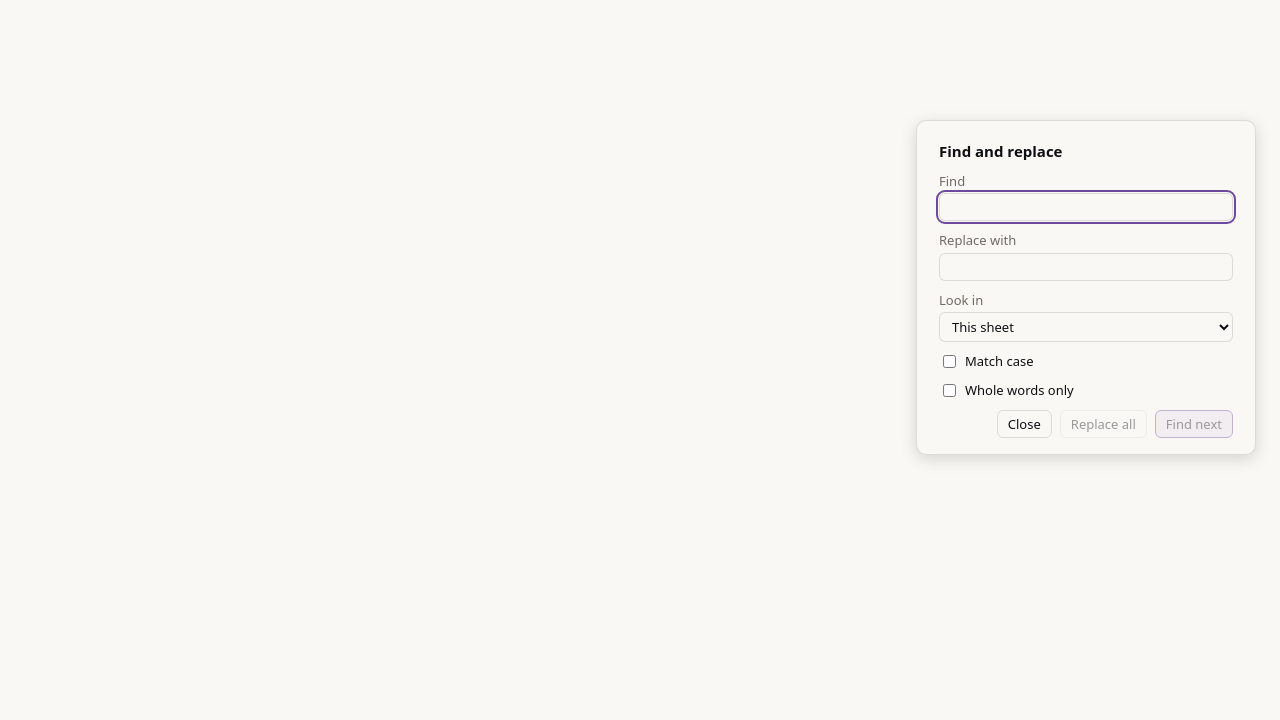
Test: nothing found says so; the inputs read either way
The width and height of the screenshot is (1280, 720).
Type "x" into the field labelled "Find". click: x=1086, y=207
box: x1=939 y1=193 x2=1233 y2=221
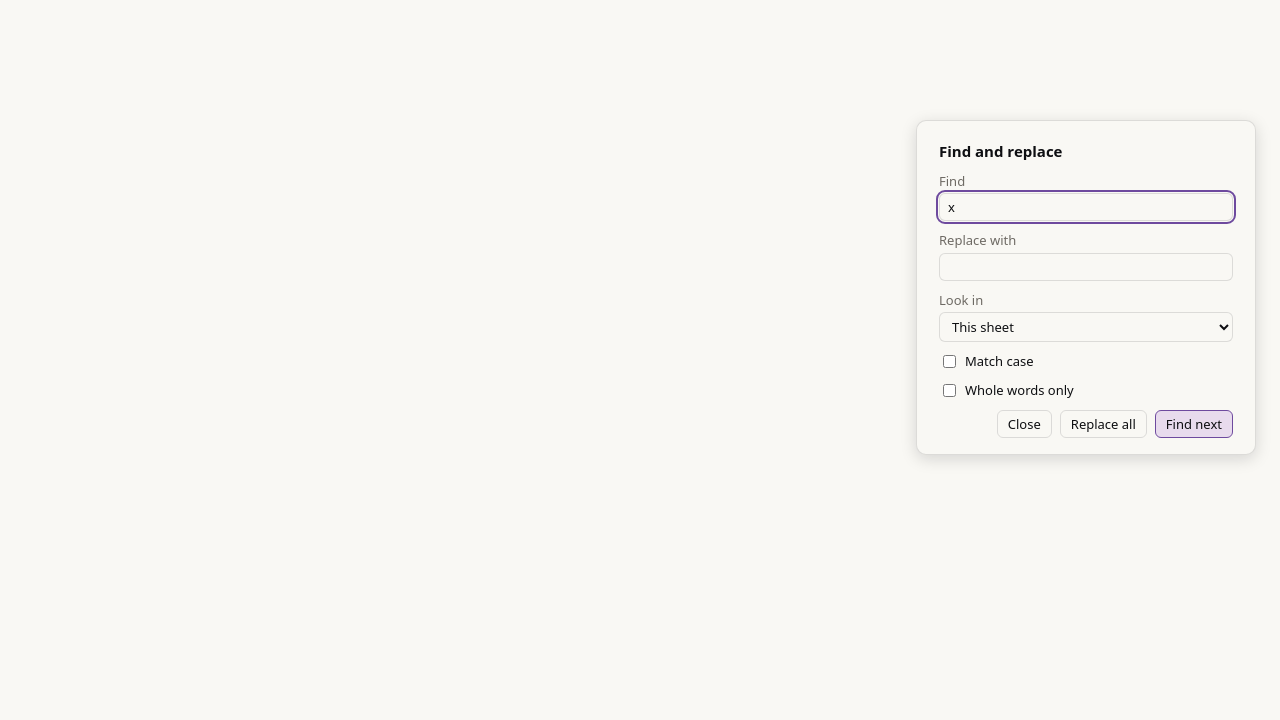
Click the button "Find next". click: x=1194, y=424
box: x1=1155 y1=410 x2=1233 y2=438
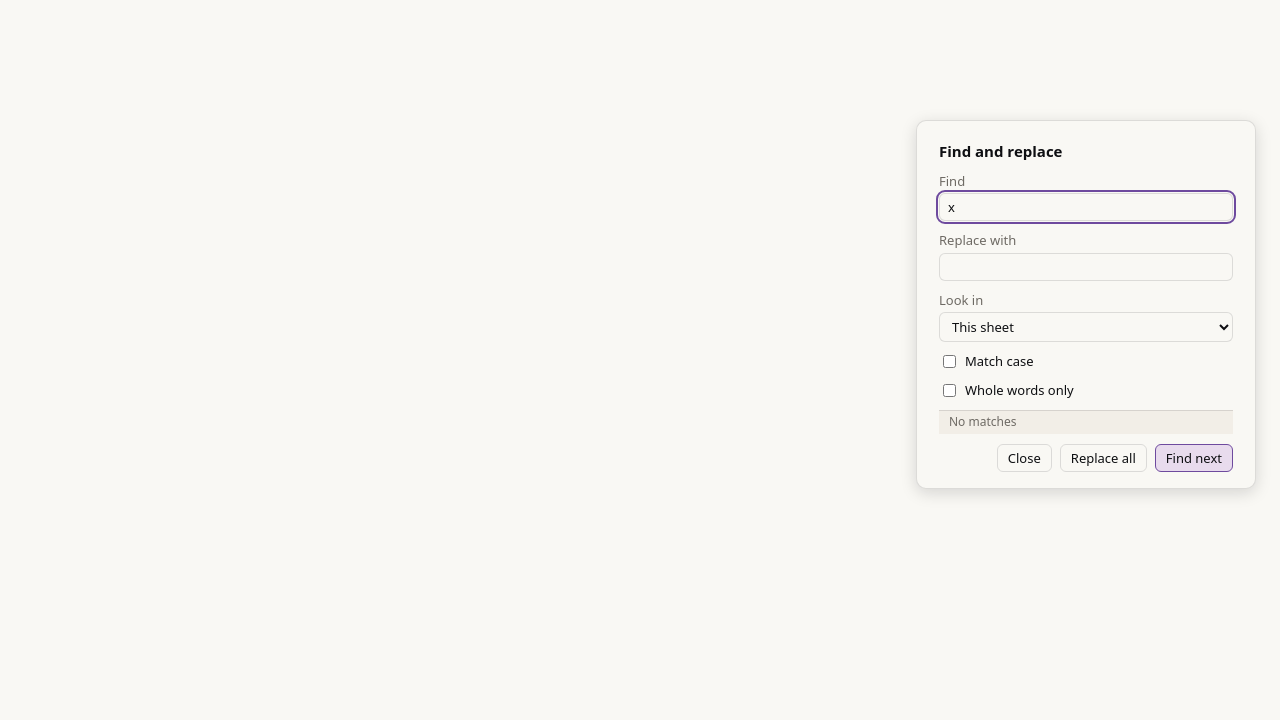
expect the message reads "No matches": met, box x1=949 y1=413 x2=1016 y2=430
